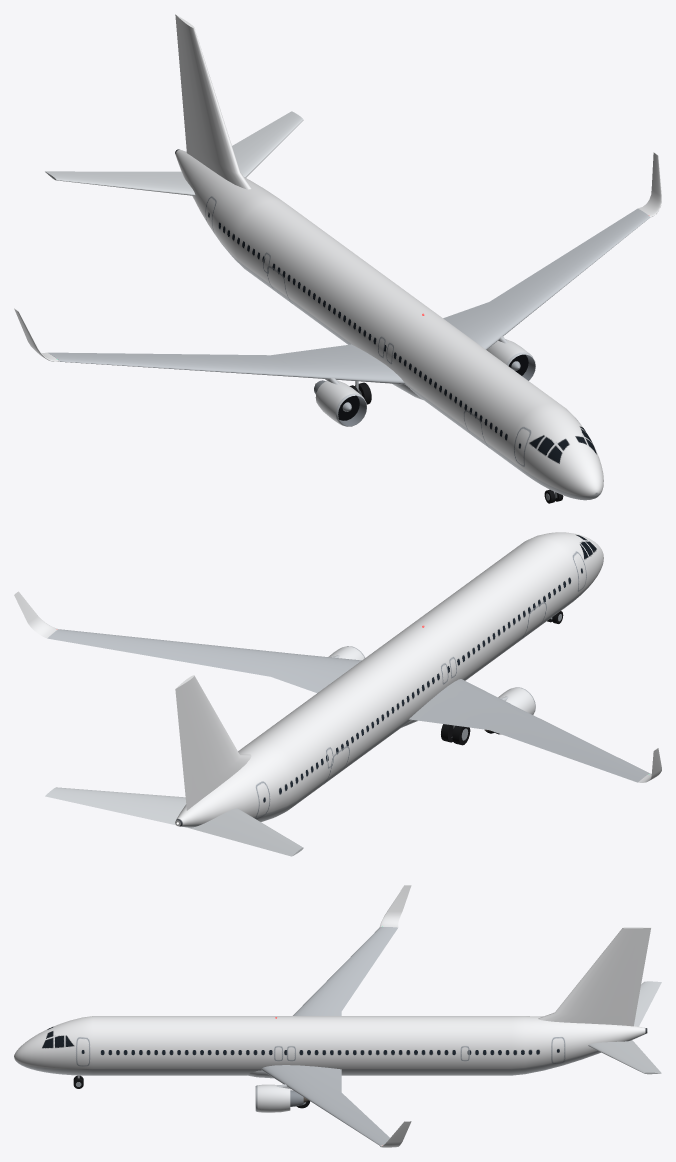
The picture shows the model from 3 angles, top to bottom: view 1: azimuth 30°, elevation 25°; view 2: azimuth 150°, elevation 25°; view 3: azimuth 270°, elevation 25°; orthographic projection. The views are drawn at different scales.
Parts seen in each view (by area): view 1: body; view 2: body, gear; view 3: body.
Boxes of the visible parts, box(x1,y1,x2,y2) form: body: box(14, 14, 661, 500); body: box(14, 532, 661, 856); gear: box(441, 611, 563, 745); body: box(14, 885, 661, 1147).
Bounding box in the file's own units: 37.18 × 11.67 × 43.09.
Materials: 19 (1 with a texture image).
